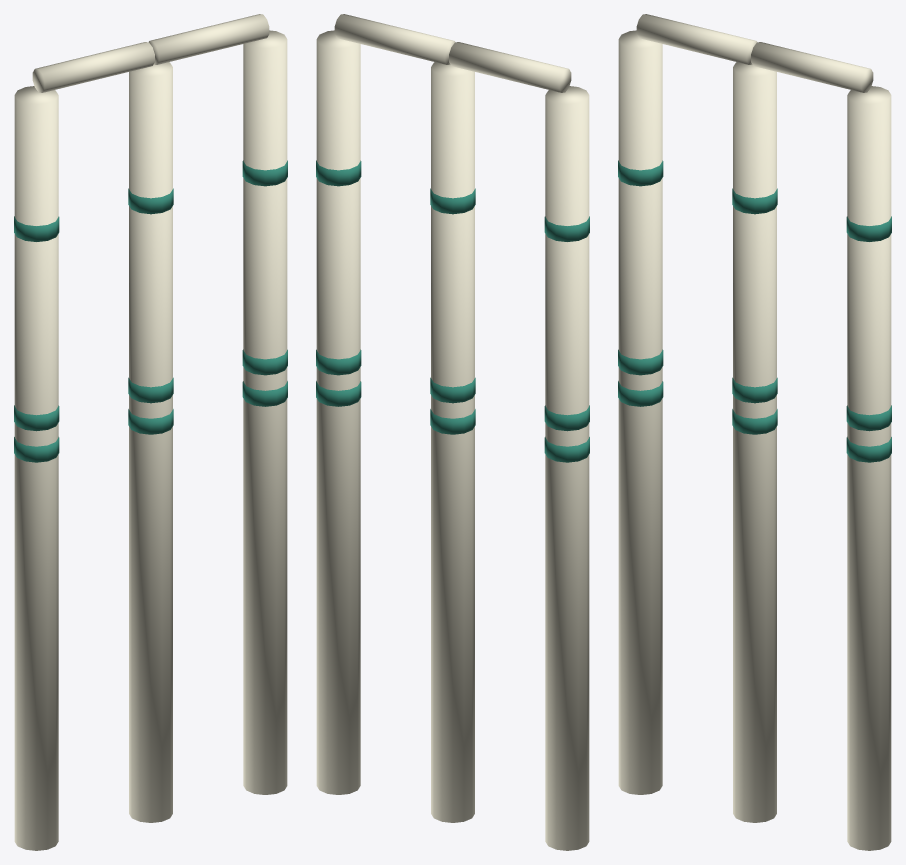
File: wicket.glb
3 renders of one model, left to right at view 1: azimuth 30°, elevation 25°; view 2: azimuth 150°, elevation 25°; view 3: azimuth 330°, elevation 25°, orthographic.
Parts seen in each view (by area): view 1: Stump_-1, Stump_1, Stump_0, LIVE_Bail_0, LIVE_Bail_1, Stump_brand, Stump_brand.005, Stump_brand.006, Stump_brand.007, Stump_brand.008, Stump_brand.003, Stump_brand.004 (+2 smaller); view 2: Stump_-1, Stump_1, Stump_0, LIVE_Bail_0, LIVE_Bail_1, Stump_brand, Stump_brand.005, Stump_brand.006, Stump_brand.007, Stump_brand.008, Stump_brand.003, Stump_brand.004 (+2 smaller); view 3: Stump_1, Stump_-1, Stump_0, LIVE_Bail_1, LIVE_Bail_0, Stump_brand.005, Stump_brand.006, Stump_brand, Stump_brand.001, Stump_brand.002, Stump_brand.003, Stump_brand.004 (+2 smaller).
Boxes of the visible parts, left/top/right/bottom form: Stump_-1: left=14, top=86, right=58, bottom=850; Stump_1: left=243, top=30, right=287, bottom=794; Stump_0: left=129, top=62, right=172, bottom=822; LIVE_Bail_0: left=32, top=42, right=154, bottom=92; LIVE_Bail_1: left=149, top=14, right=269, bottom=64; Stump_brand: left=14, top=437, right=59, bottom=462; Stump_brand.005: left=128, top=188, right=173, bottom=214; Stump_brand.006: left=242, top=381, right=287, bottom=406; Stump_brand.007: left=242, top=349, right=287, bottom=375; Stump_brand.008: left=242, top=160, right=287, bottom=186; Stump_brand.003: left=128, top=409, right=173, bottom=434; Stump_brand.004: left=128, top=377, right=173, bottom=403; Stump_-1: left=545, top=86, right=589, bottom=850; Stump_1: left=316, top=30, right=360, bottom=794; Stump_0: left=431, top=62, right=474, bottom=822; LIVE_Bail_0: left=449, top=42, right=571, bottom=92; LIVE_Bail_1: left=334, top=14, right=454, bottom=64; Stump_brand: left=544, top=437, right=589, bottom=462; Stump_brand.005: left=430, top=188, right=475, bottom=214; Stump_brand.006: left=316, top=381, right=361, bottom=406; Stump_brand.007: left=316, top=349, right=361, bottom=375; Stump_brand.008: left=316, top=160, right=361, bottom=186; Stump_brand.003: left=430, top=409, right=475, bottom=434; Stump_brand.004: left=430, top=377, right=475, bottom=403; Stump_1: left=847, top=86, right=891, bottom=850; Stump_-1: left=618, top=30, right=662, bottom=794; Stump_0: left=733, top=62, right=776, bottom=822; LIVE_Bail_1: left=751, top=42, right=873, bottom=92; LIVE_Bail_0: left=636, top=14, right=756, bottom=64; Stump_brand.005: left=732, top=188, right=777, bottom=214; Stump_brand.006: left=846, top=437, right=891, bottom=462; Stump_brand: left=618, top=381, right=663, bottom=406; Stump_brand.001: left=618, top=349, right=663, bottom=375; Stump_brand.002: left=618, top=160, right=663, bottom=186; Stump_brand.003: left=732, top=409, right=777, bottom=434; Stump_brand.004: left=732, top=377, right=777, bottom=403.
Size of the model in its own units: 0.267 by 0.735 by 0.039.
